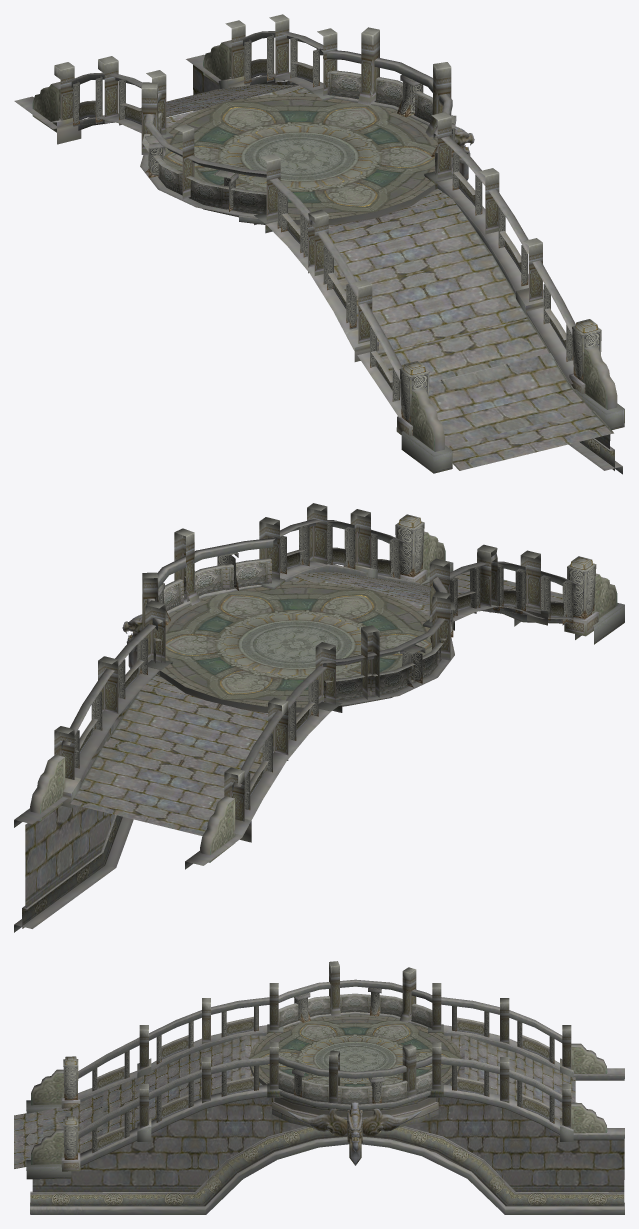
Rendered from S2_Build_XSC085.FBX.
3 views of the same model, one above another, from view 1: azimuth 30°, elevation 25°; view 2: azimuth 150°, elevation 25°; view 3: azimuth 270°, elevation 25° (orthographic). The views are drawn at different scales.
Visible parts, largest first — view 1: S2_Build_XSC085; view 2: S2_Build_XSC085; view 3: S2_Build_XSC085.
Part boxes in pixels (bbox=[...]): S2_Build_XSC085: bbox=[14, 14, 624, 474]; S2_Build_XSC085: bbox=[14, 503, 624, 932]; S2_Build_XSC085: bbox=[14, 961, 624, 1214].
Bounding box in the file's own units: 881 × 2083 × 652.
